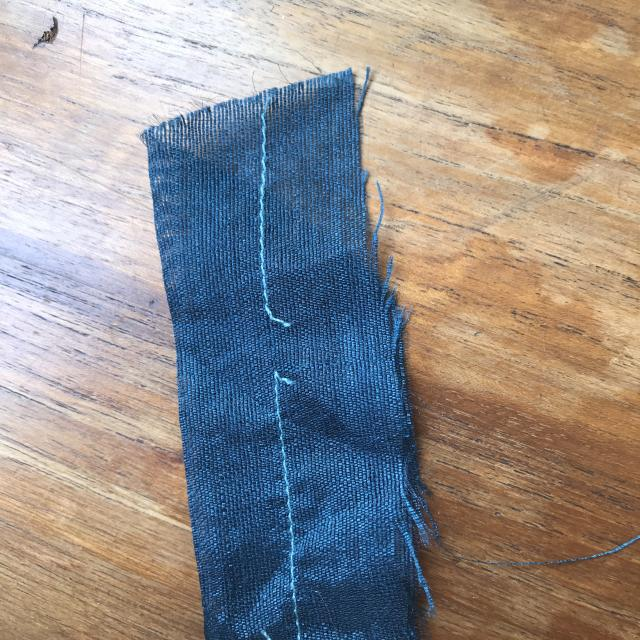broken: (246, 292, 320, 401)
